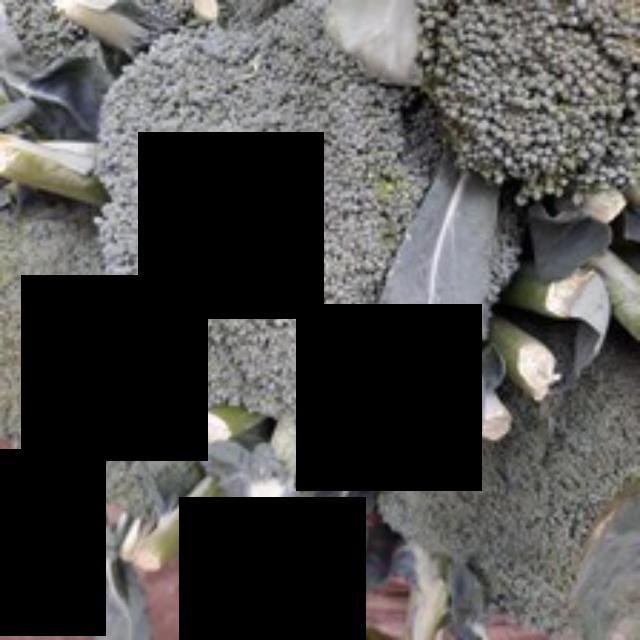broccoli: (90, 9, 490, 424)
